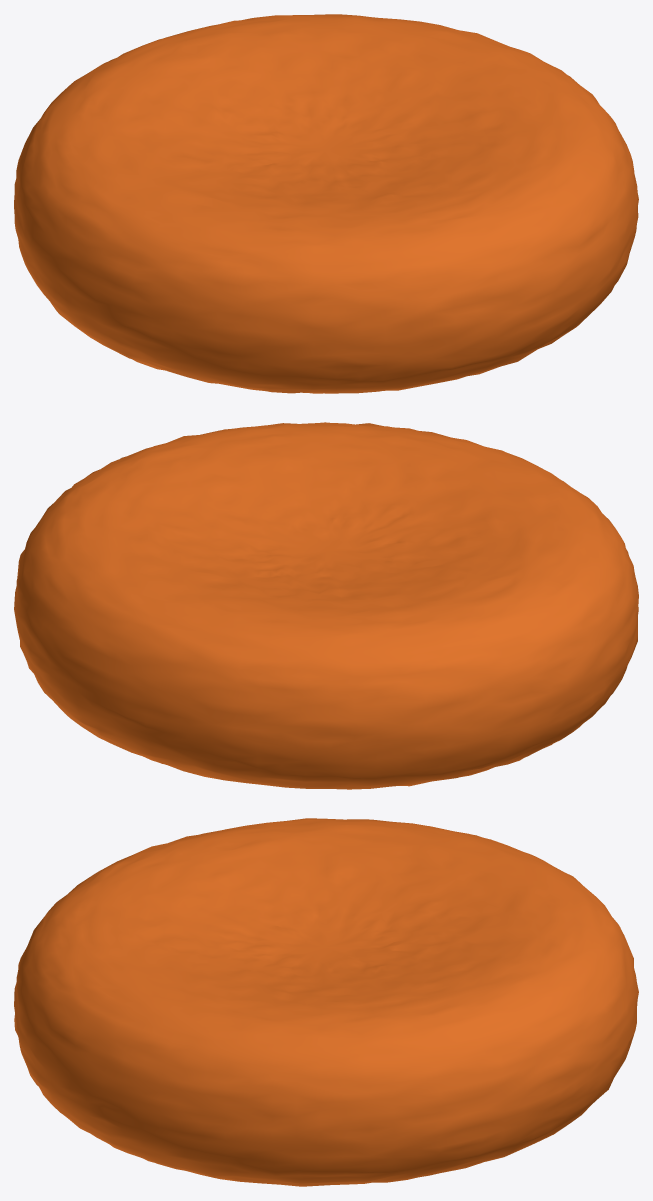
The model's file is blood cell.gltf.
3 renders of one model, top to bottom at view 1: azimuth 30°, elevation 25°; view 2: azimuth 150°, elevation 25°; view 3: azimuth 270°, elevation 25°, orthographic.
Parts seen in each view (by area): view 1: Sphere_Sphere.012; view 2: Sphere_Sphere.012; view 3: Sphere_Sphere.012.
Part boxes in pixels (<box>): Sphere_Sphere.012: <box>14,14,638,393</box>; Sphere_Sphere.012: <box>14,422,638,789</box>; Sphere_Sphere.012: <box>14,818,638,1186</box>.
Bounding box in the file's own units: 0.4073 × 0.1209 × 0.4072.
